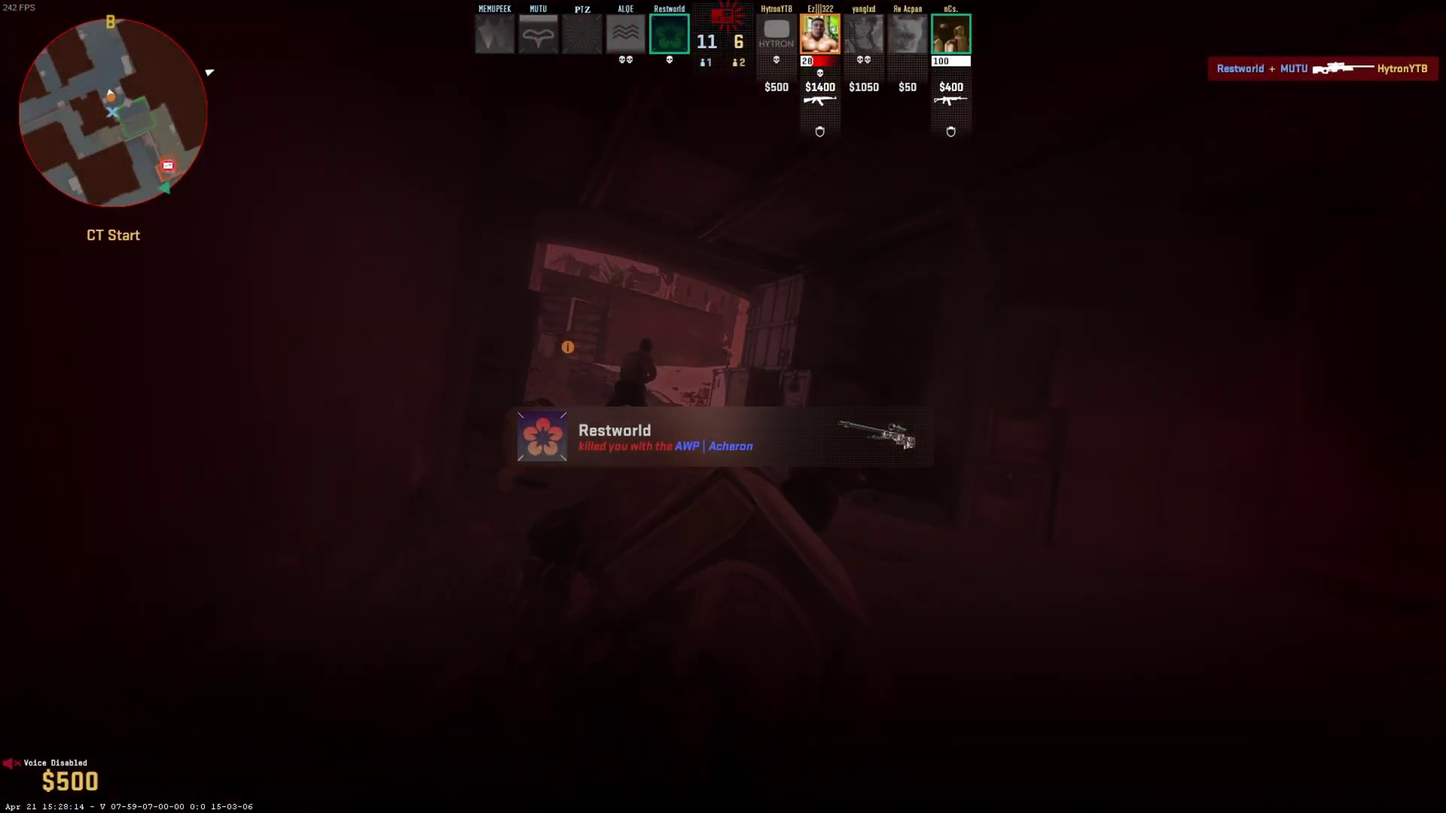Terrorist: (608, 335, 661, 413)
